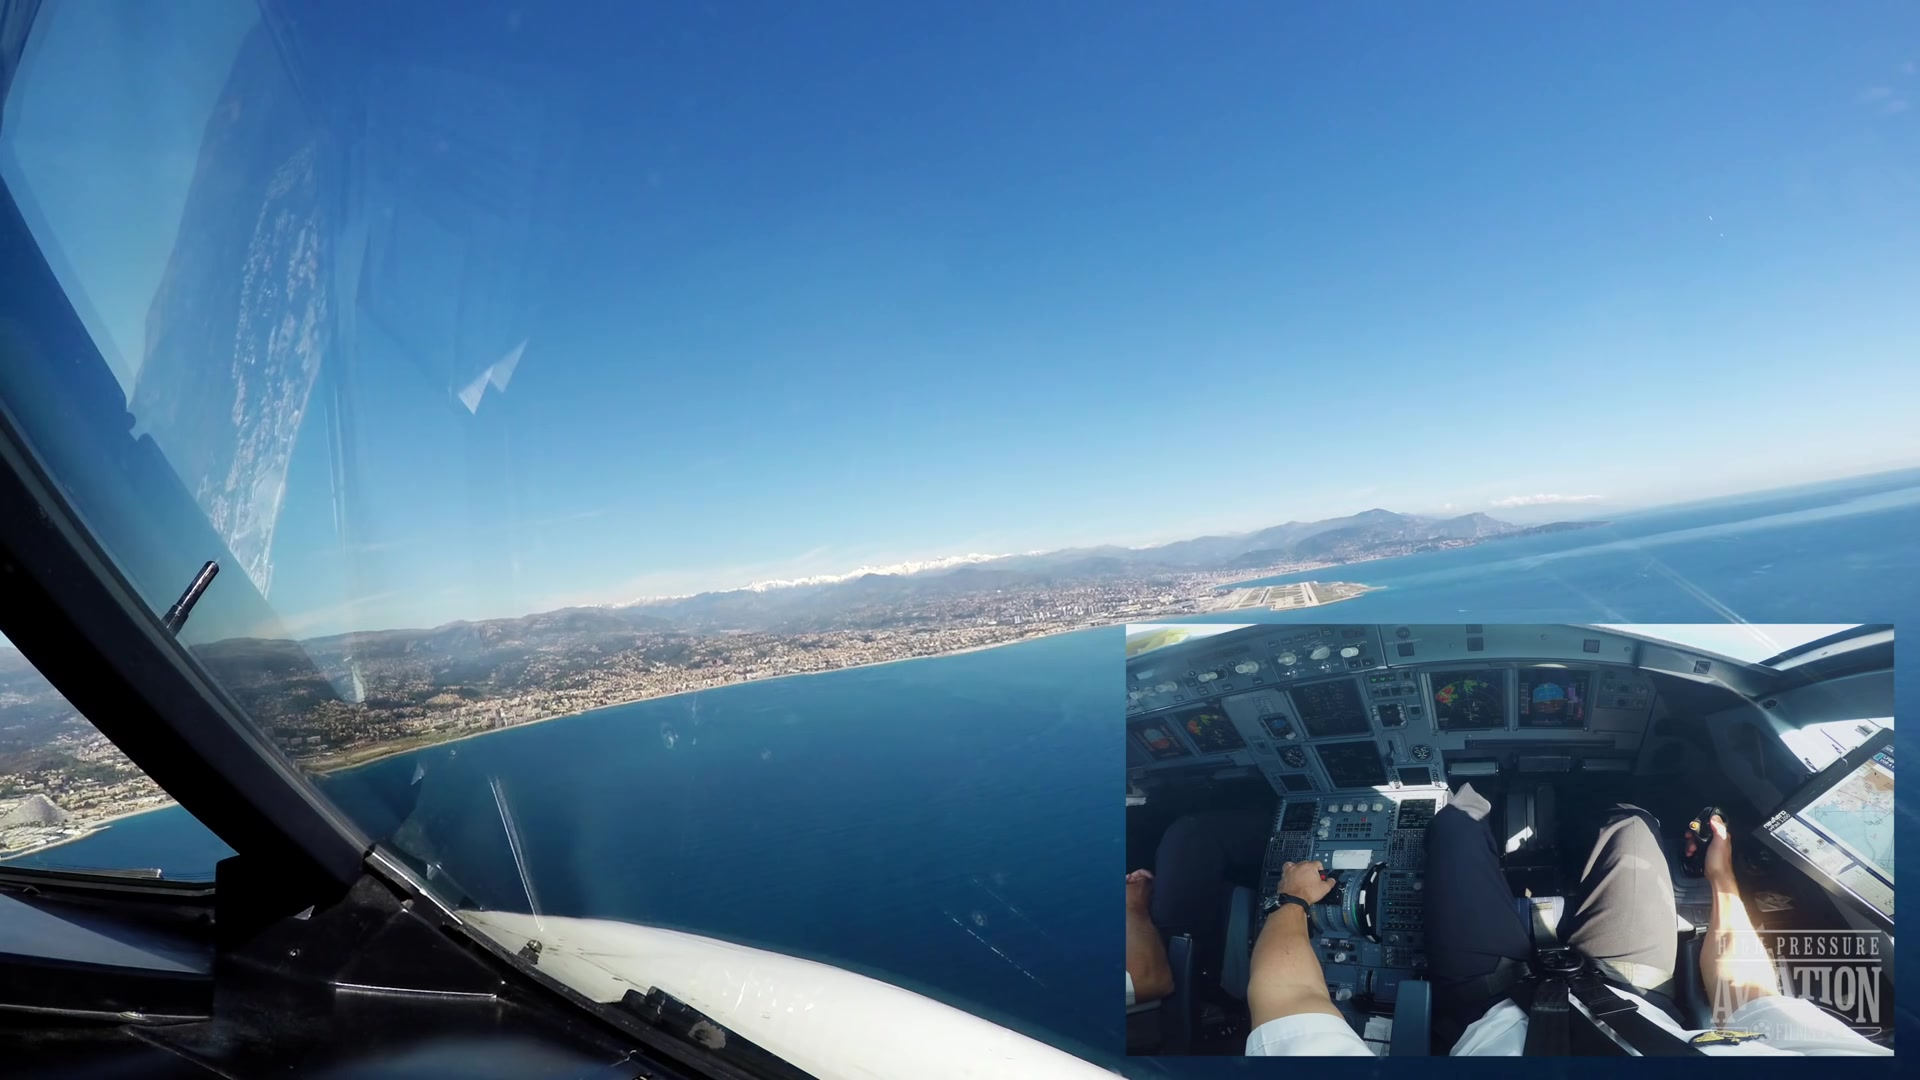runway: (1298, 580, 1320, 608), (1254, 585, 1273, 607)
